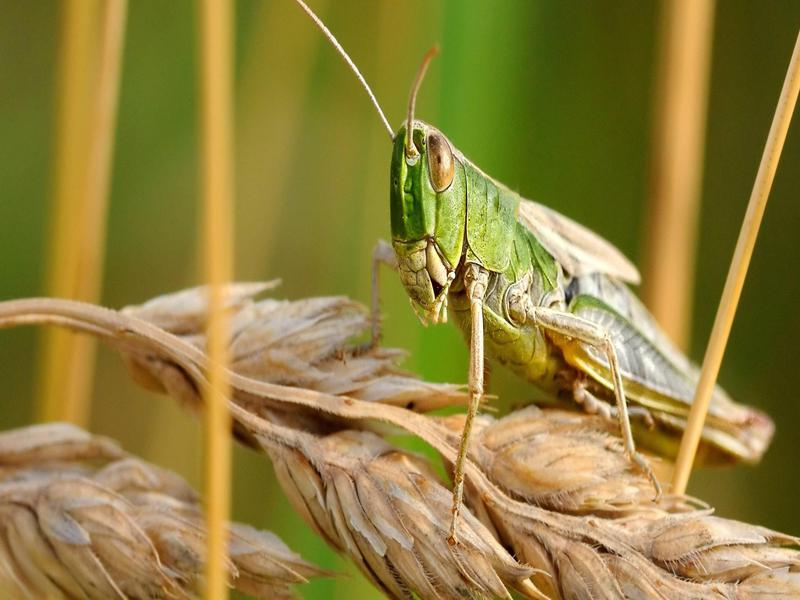Grasshopper: (325, 104, 776, 472)
